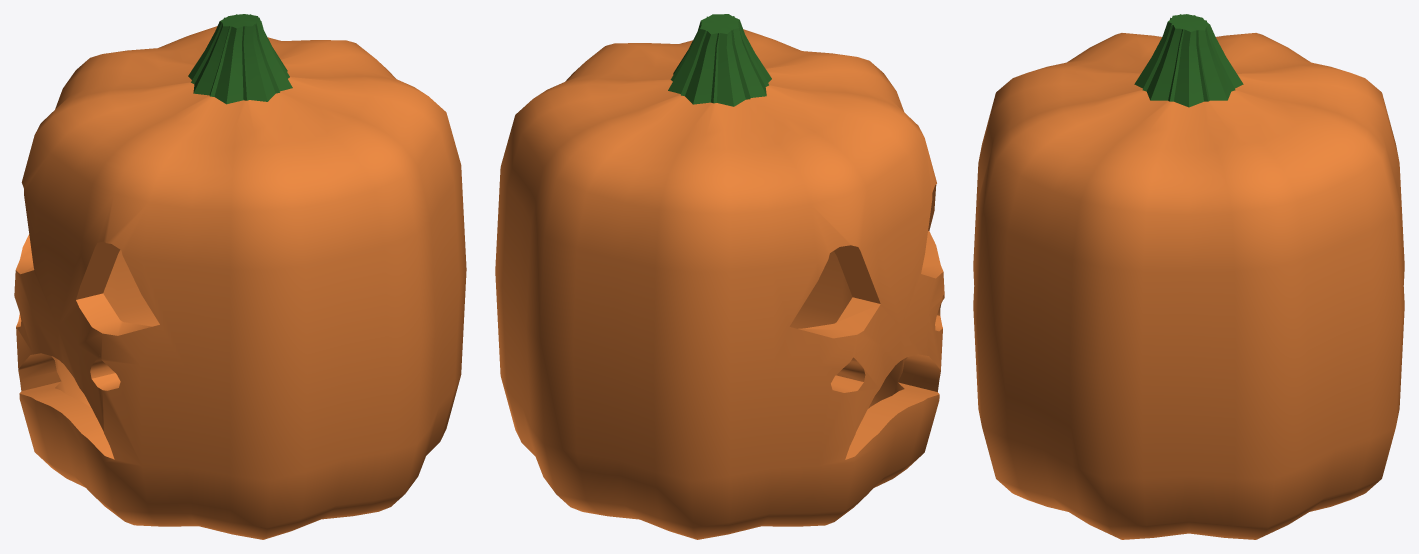
Rendered from jackolantern2.fbx.
3 renders of one model, left to right at view 1: azimuth 30°, elevation 25°; view 2: azimuth 150°, elevation 25°; view 3: azimuth 270°, elevation 25°, orthographic.
Visible parts, largest first — view 1: Cylinder.007; view 2: Cylinder.007; view 3: Cylinder.007.
Boxes of the visible parts, <box> form: Cylinder.007: <box>14,14,466,539</box>; Cylinder.007: <box>495,14,944,539</box>; Cylinder.007: <box>973,14,1404,539</box>.
Size of the model in its own units: 134 by 157 by 134.
